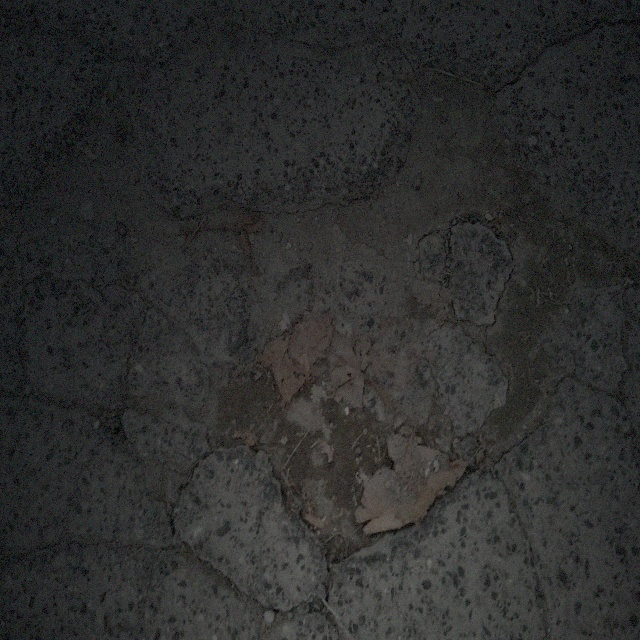pothole: (156, 58, 577, 566), (12, 89, 168, 258)
